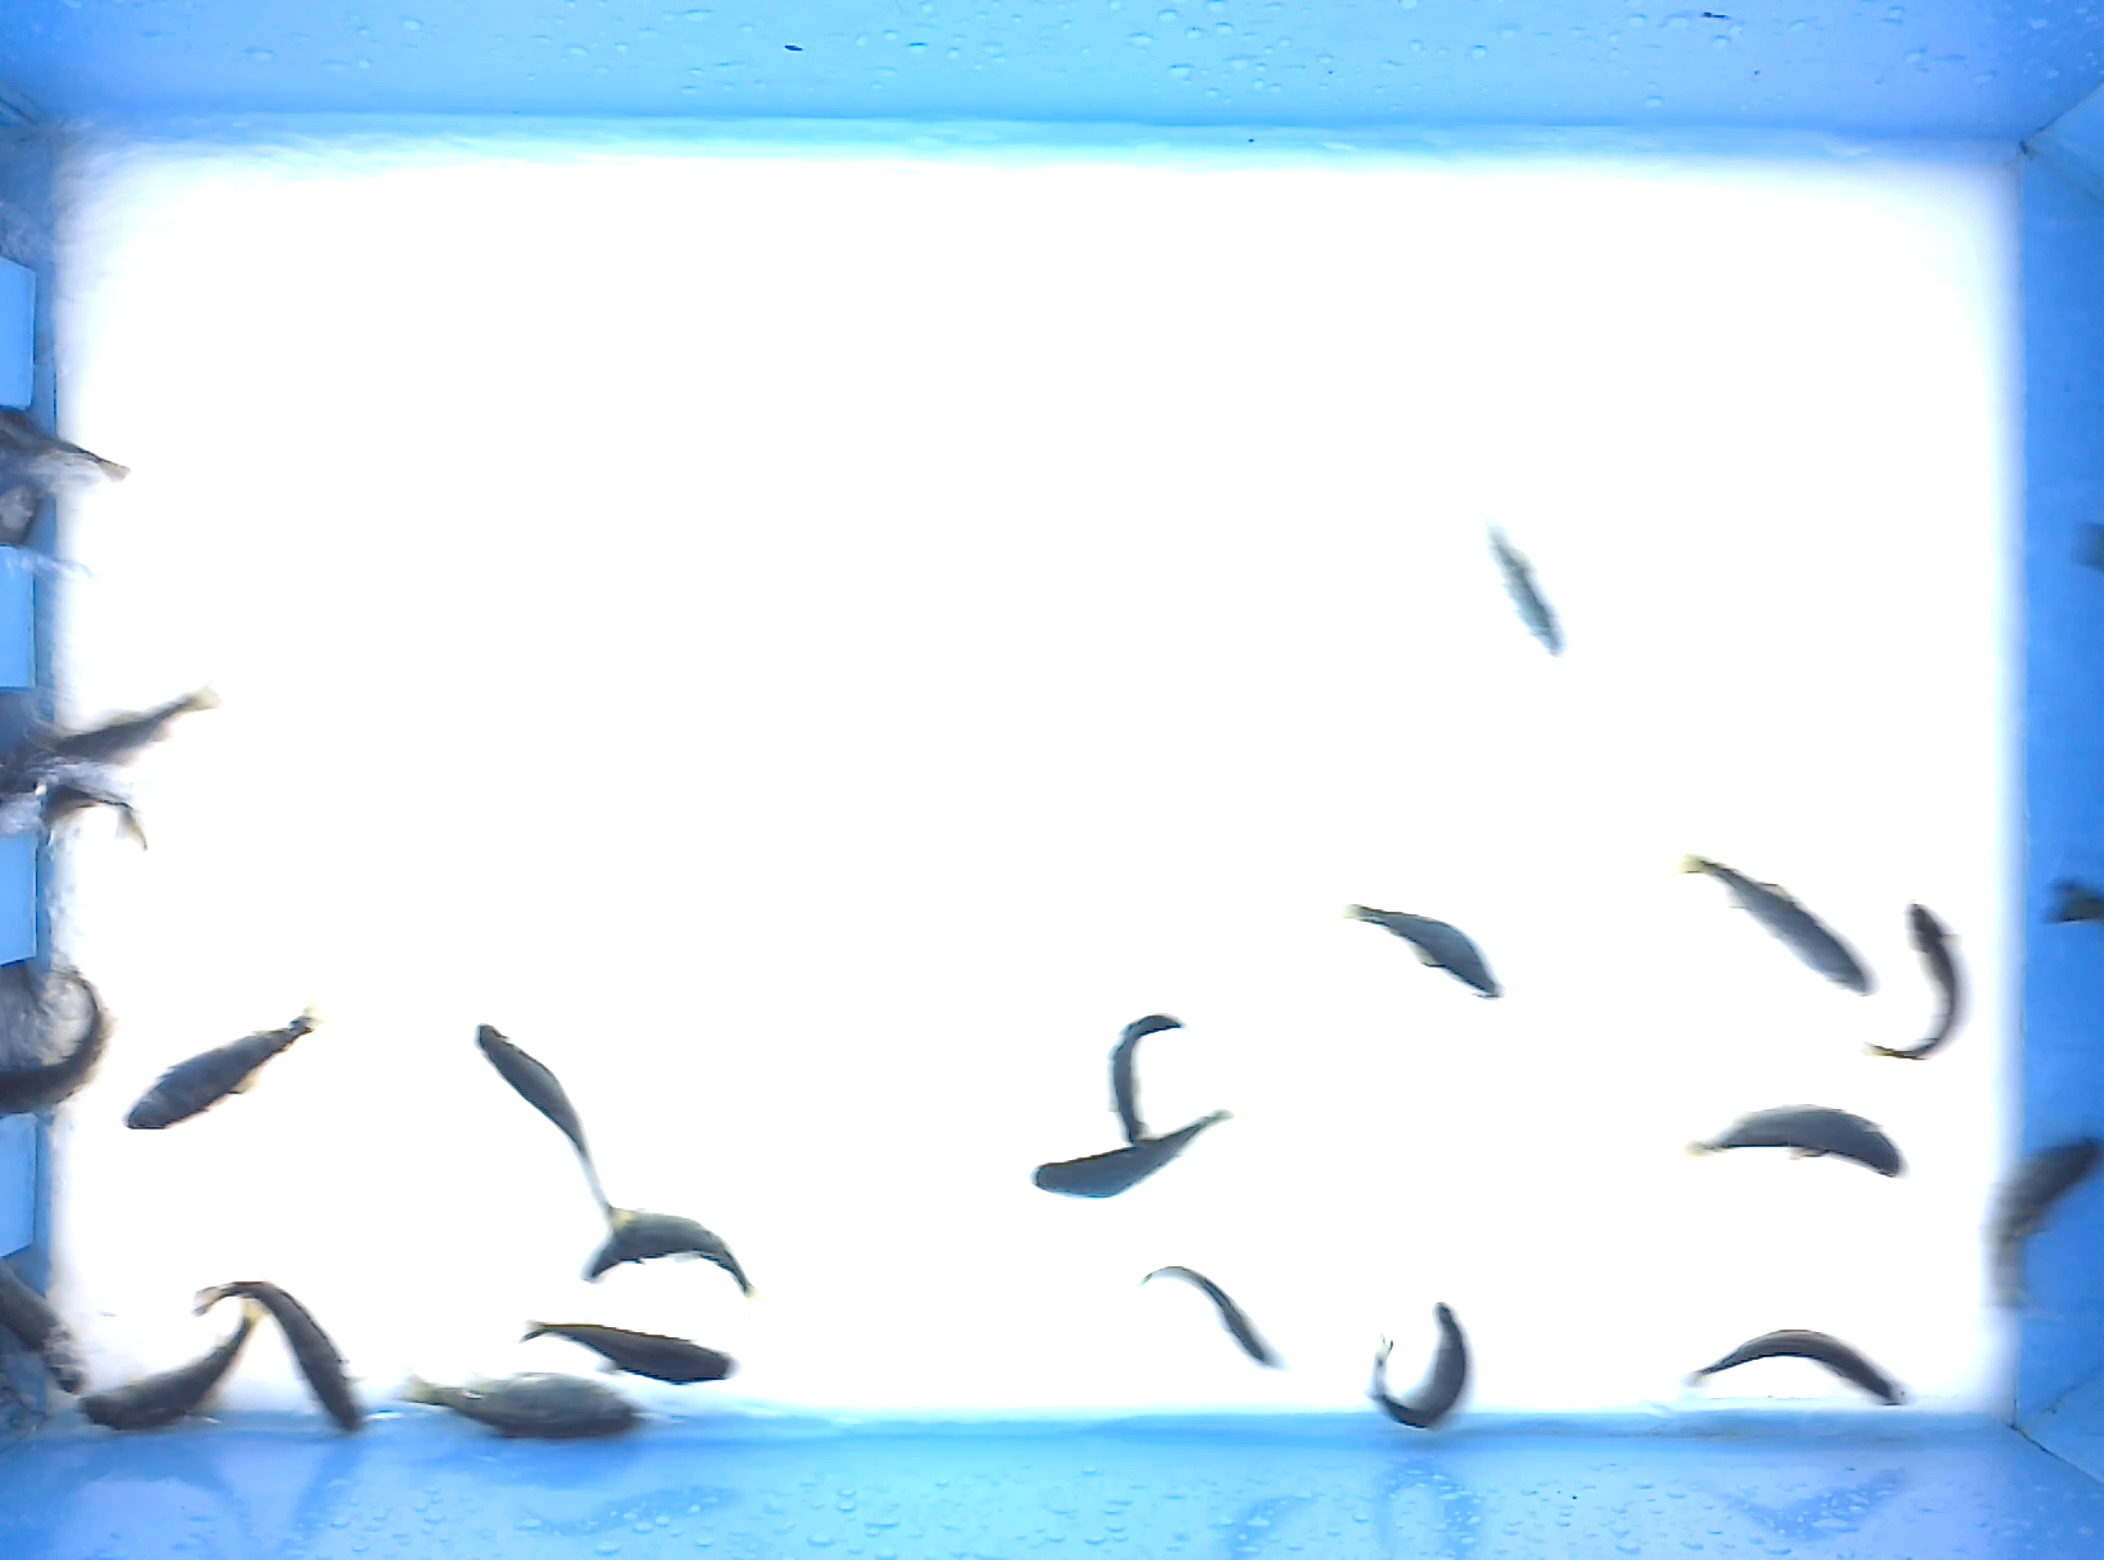fish: (470, 1016, 641, 1237), (1673, 846, 1876, 1001), (188, 1275, 370, 1439), (118, 1000, 324, 1132), (70, 1298, 267, 1435), (380, 1362, 654, 1439), (1678, 1326, 1920, 1413), (15, 683, 223, 780), (1027, 1106, 1239, 1201), (1676, 1100, 1914, 1183), (1863, 896, 1978, 1063), (574, 1208, 759, 1303), (1137, 1262, 1291, 1373), (1340, 901, 1506, 1003), (515, 1314, 741, 1388), (1362, 1298, 1475, 1434), (1476, 506, 1568, 660), (1103, 1009, 1188, 1145)
